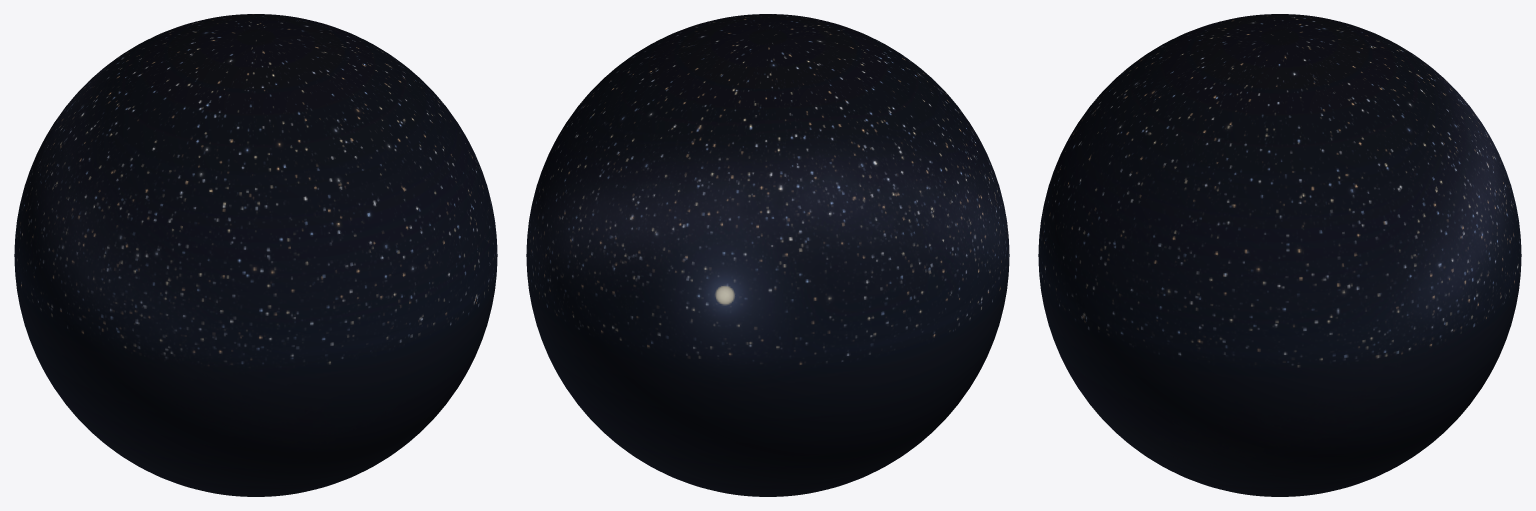
Rendered from skydome.obj.
The picture shows the model from 3 angles, left to right: view 1: azimuth 30°, elevation 25°; view 2: azimuth 150°, elevation 25°; view 3: azimuth 270°, elevation 25°; orthographic projection.
Visible parts, largest first — view 1: skydome; view 2: skydome; view 3: skydome.
Part boxes in pixels (x1,y1,x2,y2): skydome: (14,14,497,496); skydome: (526,14,1009,496); skydome: (1038,14,1521,496).
Bounding box in the file's own units: 120 × 120 × 120.
Materials: 1 (1 with a texture image).
